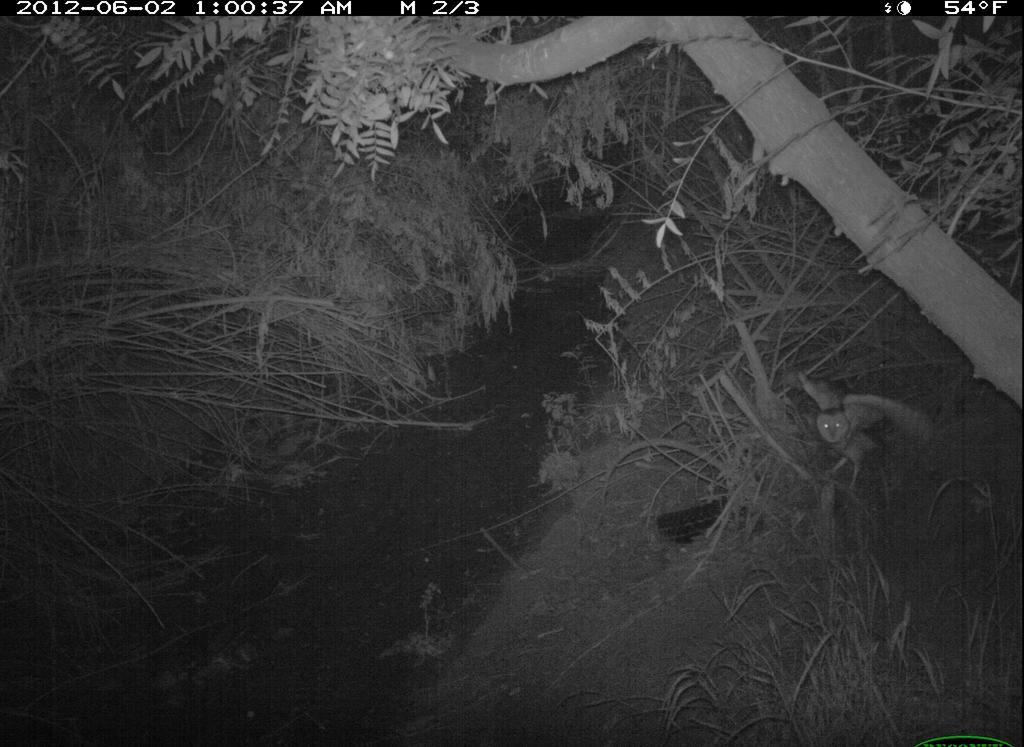bird: (784, 356, 941, 495)
